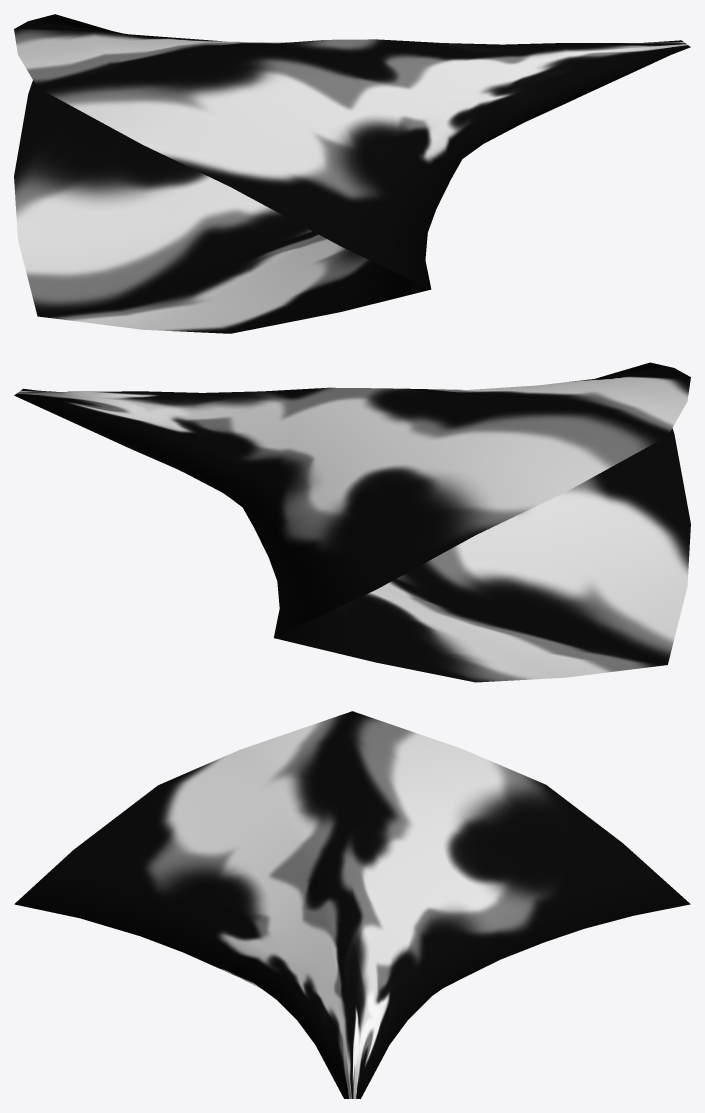
File: Fire.fbx
3 views of the same model, one above another, from view 1: azimuth 30°, elevation 25°; view 2: azimuth 150°, elevation 25°; view 3: azimuth 270°, elevation 25° (orthographic). The views are drawn at different scales.
Parts seen in each view (by area): view 1: Fire; view 2: Fire; view 3: Fire.
Part boxes in pixels (x1,y1,x2,y2): Fire: [14, 14, 690, 333]; Fire: [14, 362, 690, 682]; Fire: [14, 711, 690, 1098].
Bounding box in the file's own units: 293 × 103 × 294.
